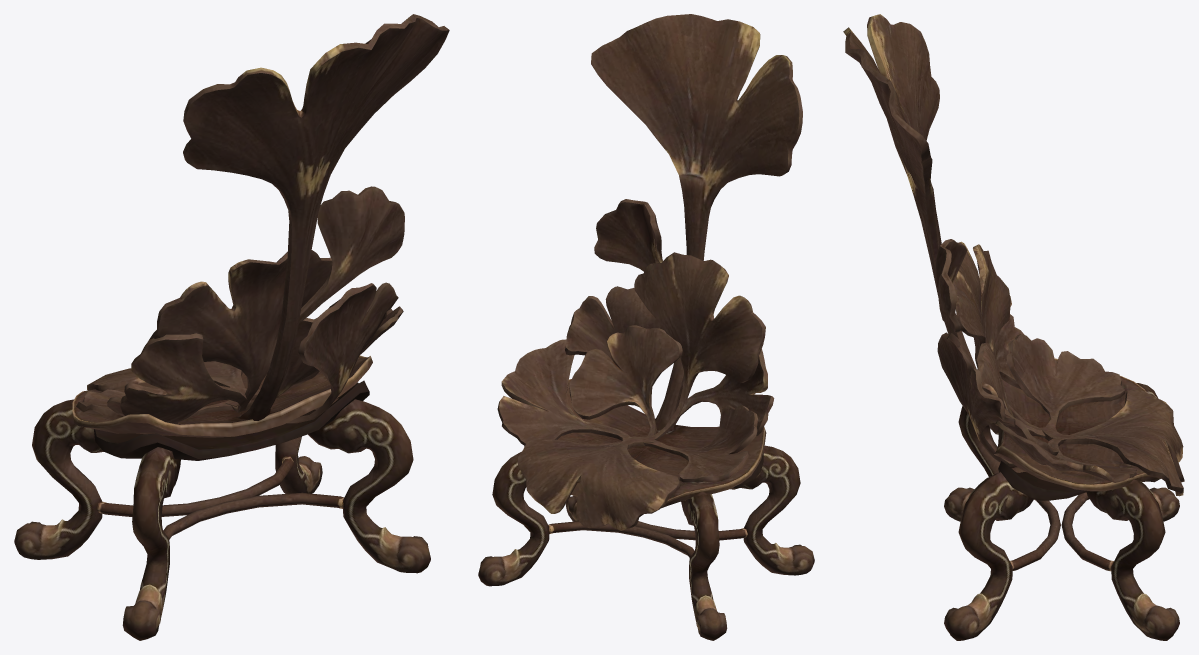
The model's file is furniture-21288.glb.
3 renders of one model, left to right at view 1: azimuth 30°, elevation 25°; view 2: azimuth 150°, elevation 25°; view 3: azimuth 270°, elevation 25°, orthographic. The views are drawn at different scales.
Size of the model in its own units: 0.6339 by 1.13 by 0.6368.
Materials: 1 (1 with a texture image).
